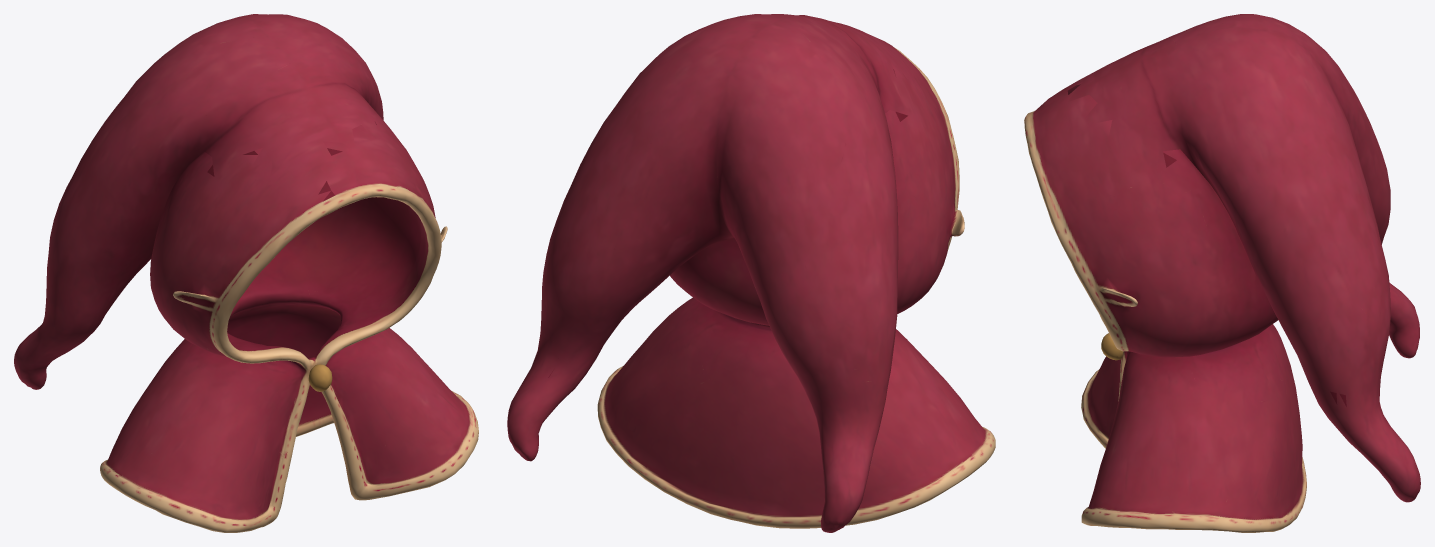
Rendered from Meshy_AI_Crimson_Hooded_Cloak_1111122233_texture.glb.
3 renders of one model, left to right at view 1: azimuth 30°, elevation 25°; view 2: azimuth 150°, elevation 25°; view 3: azimuth 270°, elevation 25°, orthographic. The views are drawn at different scales.
Visible parts, largest first — view 1: geometry_0; view 2: geometry_0; view 3: geometry_0.
Part boxes in pixels (x1=…): geometry_0: x1=14, y1=14, x2=478, y2=532; geometry_0: x1=507, y1=14, x2=995, y2=532; geometry_0: x1=1024, y1=14, x2=1420, y2=532.
Bounding box in the file's own units: 0.811 × 1 × 0.7772.
1 material, 1 textured.
